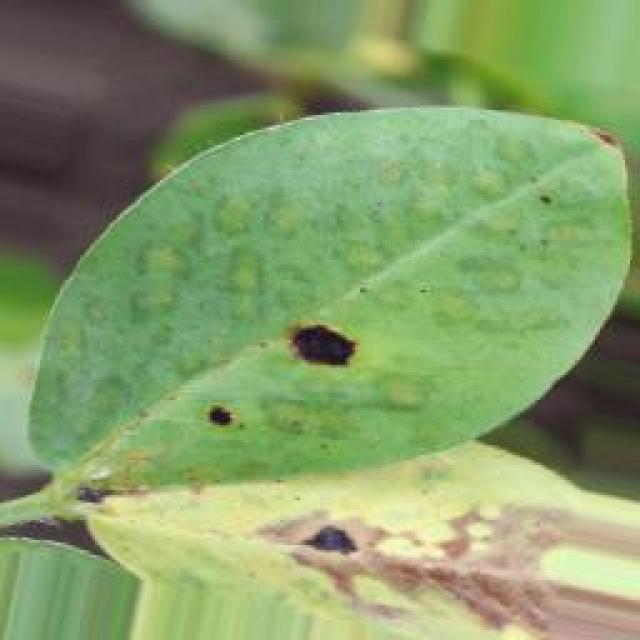Yellowish: (258, 488, 625, 632), (525, 99, 640, 226), (269, 299, 393, 380), (195, 385, 266, 455)
